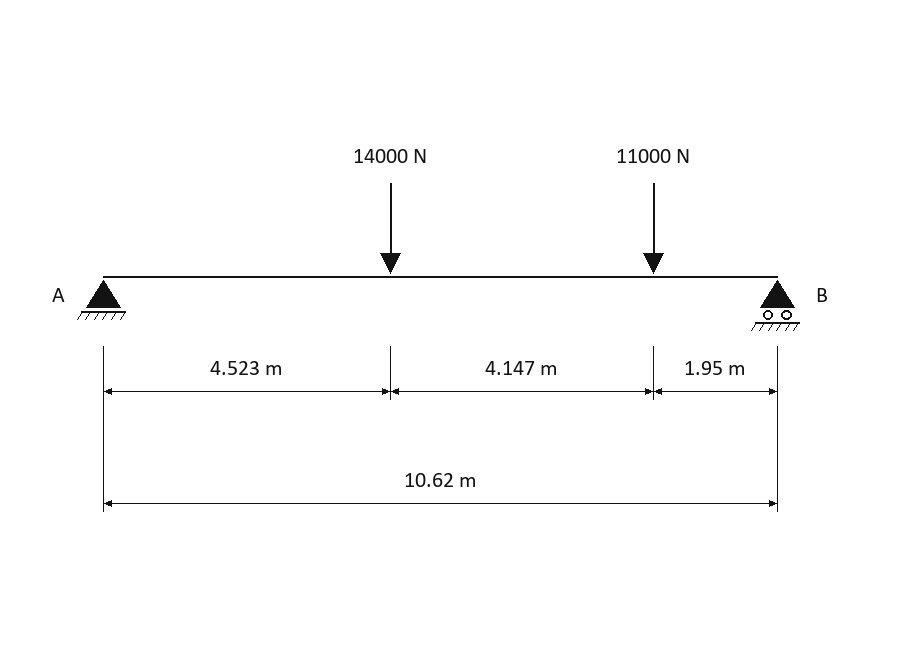pin_support: (77, 280, 126, 320)
point_load: (380, 183, 401, 274), (643, 183, 664, 274)
roller_support: (751, 280, 800, 331)
